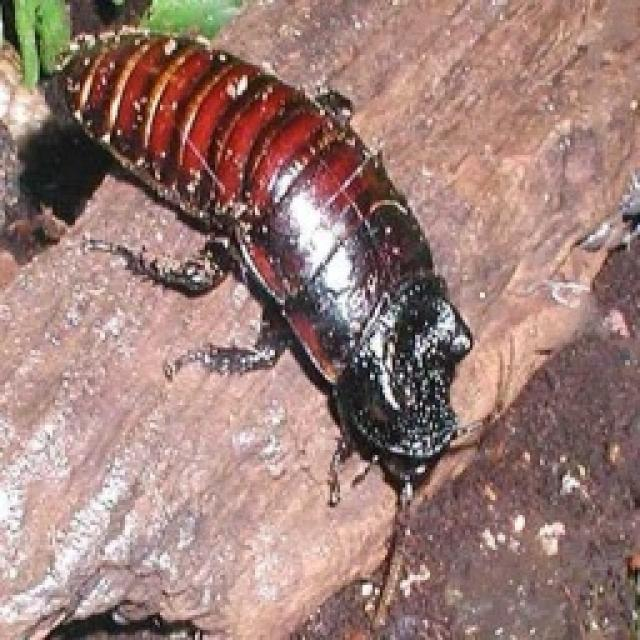cockroach: (53, 29, 481, 509)
